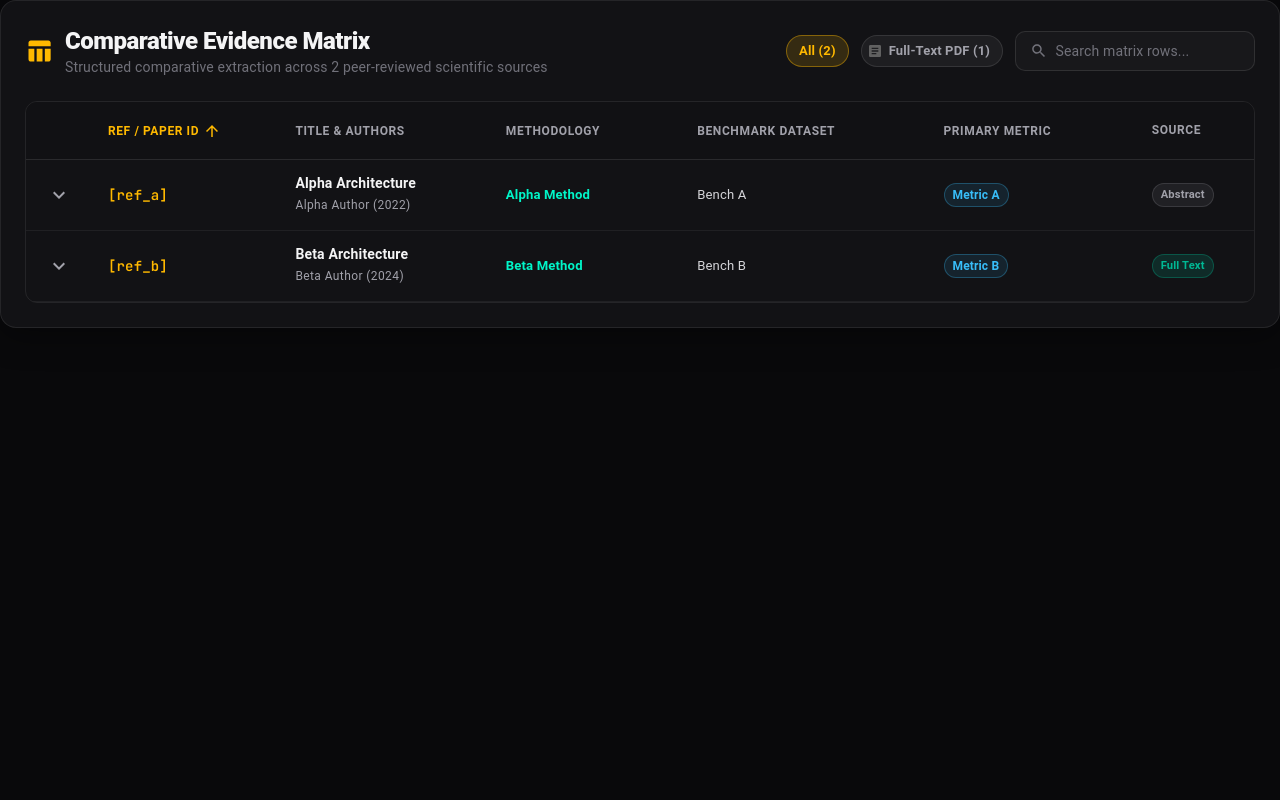
M4 Challenger 2 Empirical Stress Test Suite › 3. Dashboard Component Rendering Under Stress & Edge-Case Inputs › EvidenceMatrixTable component › handles column sorting and row expansion toggles
Click title sort header
Click the button "Title & Authors": {"x": 350, "y": 131} x1=295 y1=124 x2=405 y2=138
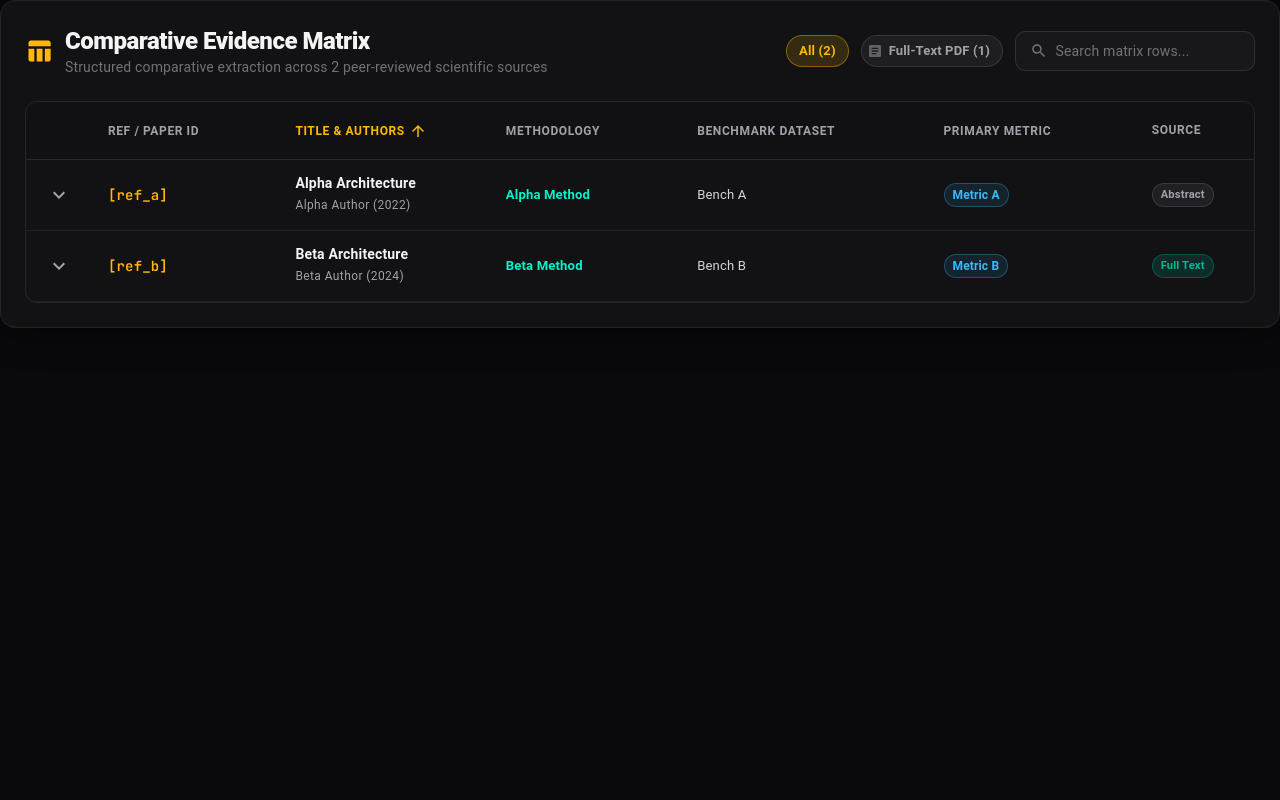
Expand row ref_b
Click the text "Beta Architecture": {"x": 352, "y": 254} x1=295 y1=246 x2=408 y2=262
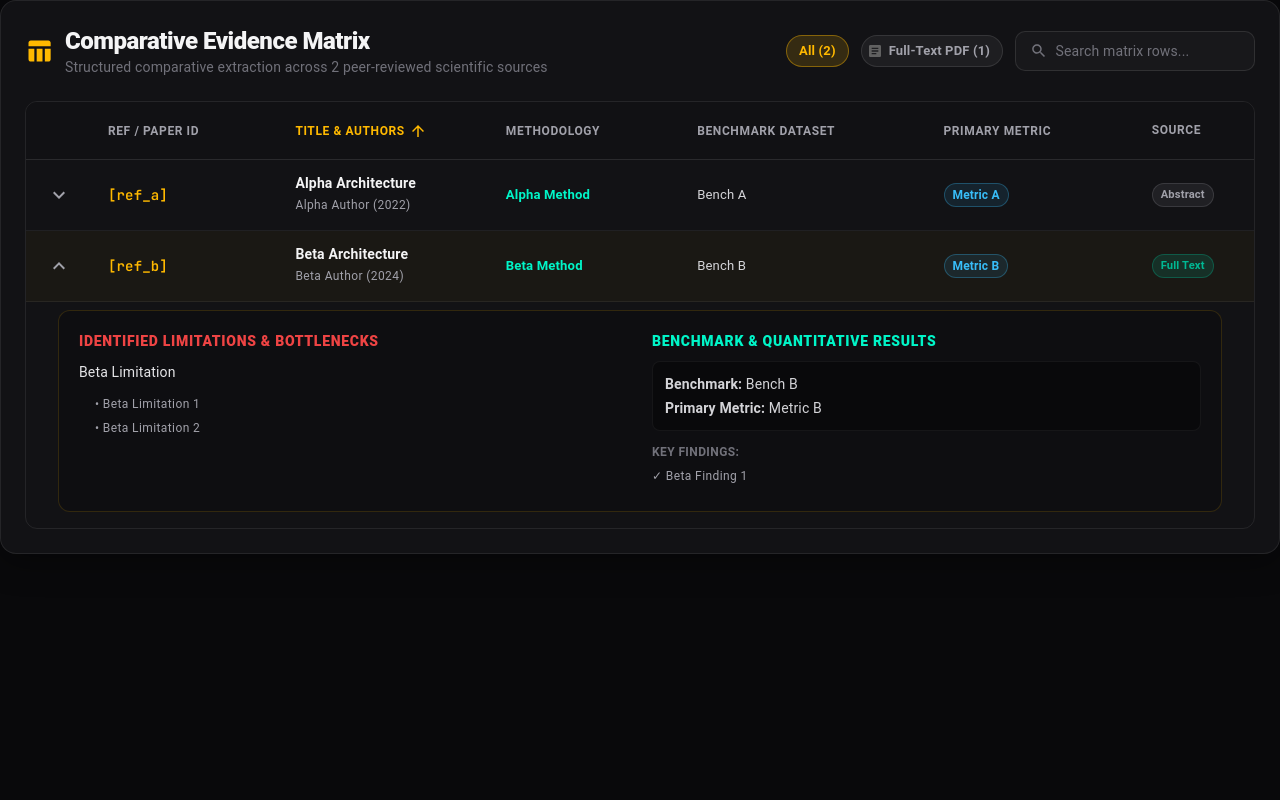
Expected: the heading "Identified Limitations & Bottlenecks" is shown, x1=79 y1=333 x2=379 y2=349
Expected: the text "• Beta Limitation 1" is shown, x1=95 y1=397 x2=200 y2=411
Expected: the text "✓ Beta Finding 1" is shown, x1=652 y1=469 x2=748 y2=483
